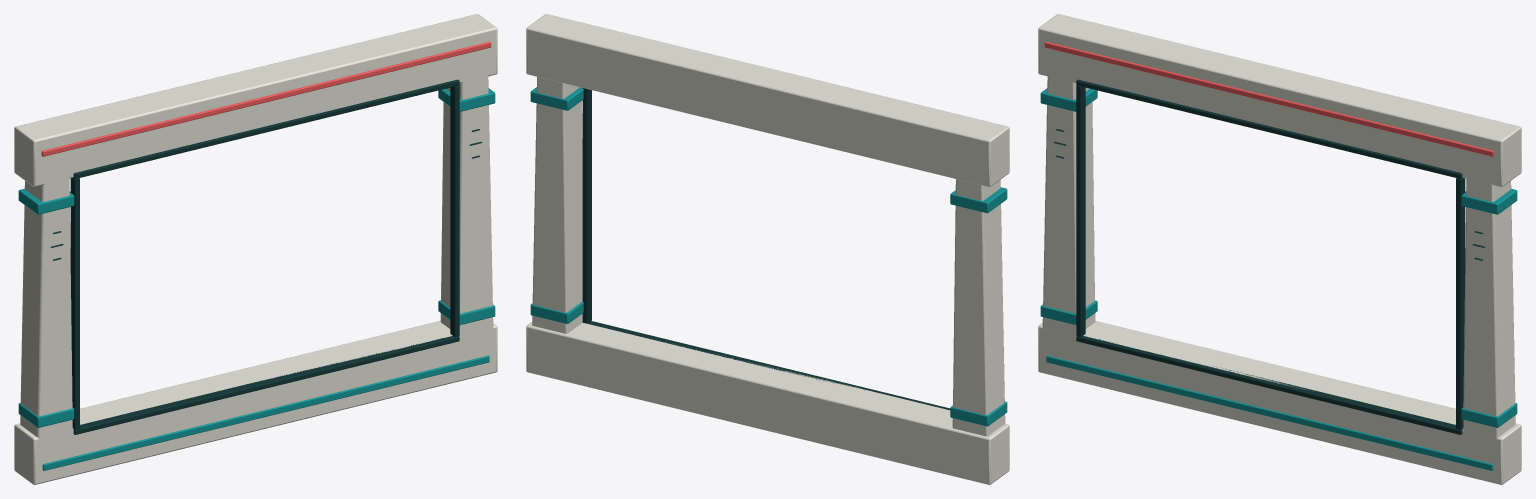
The model's file is gateframe.glb.
3 renders of one model, left to right at view 1: azimuth 30°, elevation 25°; view 2: azimuth 150°, elevation 25°; view 3: azimuth 330°, elevation 25°, orthographic.
Visible parts, largest first — view 1: FTG gateframe • wide lintel, FTG gateframe • paper threshold, FTG gateframe • left tapered pier, FTG gateframe • right tapered pier, FTG gateframe • threshold teal inset, FTG gateframe • inner shadow sill, FTG gateframe • coral lintel ribbon, FTG gateframe • inner shadow lintel, FTG gateframe • inner shadow upright 1, FTG gateframe • inner shadow upright -1, FTG gateframe • teal pier collar -1 1, FTG gateframe • teal pier collar -1 0 (+2 smaller); view 2: FTG gateframe • wide lintel, FTG gateframe • paper threshold, FTG gateframe • left tapered pier, FTG gateframe • right tapered pier, FTG gateframe • inner shadow upright 1, FTG gateframe • inner shadow sill, FTG gateframe • teal pier collar -1 1, FTG gateframe • teal pier collar 1 1, FTG gateframe • teal pier collar -1 0, FTG gateframe • teal pier collar 1 0; view 3: FTG gateframe • wide lintel, FTG gateframe • paper threshold, FTG gateframe • right tapered pier, FTG gateframe • left tapered pier, FTG gateframe • threshold teal inset, FTG gateframe • inner shadow sill, FTG gateframe • coral lintel ribbon, FTG gateframe • inner shadow lintel, FTG gateframe • inner shadow upright -1, FTG gateframe • inner shadow upright 1, FTG gateframe • teal pier collar 1 1, FTG gateframe • teal pier collar 1 0 (+2 smaller).
Boxes of the visible parts, x1=… form: FTG gateframe • wide lintel: x1=14, y1=14, x2=497, y2=186; FTG gateframe • paper threshold: x1=14, y1=321, x2=497, y2=484; FTG gateframe • left tapered pier: x1=20, y1=171, x2=72, y2=463; FTG gateframe • right tapered pier: x1=440, y1=69, x2=493, y2=360; FTG gateframe • threshold teal inset: x1=42, y1=355, x2=489, y2=470; FTG gateframe • inner shadow sill: x1=73, y1=336, x2=459, y2=434; FTG gateframe • coral lintel ribbon: x1=41, y1=41, x2=491, y2=156; FTG gateframe • inner shadow lintel: x1=73, y1=79, x2=459, y2=178; FTG gateframe • inner shadow upright 1: x1=450, y1=85, x2=459, y2=337; FTG gateframe • inner shadow upright -1: x1=70, y1=178, x2=79, y2=429; FTG gateframe • teal pier collar -1 1: x1=18, y1=188, x2=74, y2=214; FTG gateframe • teal pier collar -1 0: x1=18, y1=403, x2=74, y2=427; FTG gateframe • wide lintel: x1=526, y1=14, x2=1009, y2=186; FTG gateframe • paper threshold: x1=526, y1=322, x2=1009, y2=484; FTG gateframe • left tapered pier: x1=952, y1=179, x2=1005, y2=436; FTG gateframe • right tapered pier: x1=532, y1=77, x2=582, y2=333; FTG gateframe • inner shadow upright 1: x1=582, y1=88, x2=591, y2=323; FTG gateframe • inner shadow sill: x1=588, y1=321, x2=950, y2=410; FTG gateframe • teal pier collar -1 1: x1=950, y1=187, x2=1007, y2=213; FTG gateframe • teal pier collar 1 1: x1=530, y1=87, x2=583, y2=110; FTG gateframe • teal pier collar -1 0: x1=950, y1=401, x2=1007, y2=426; FTG gateframe • teal pier collar 1 0: x1=530, y1=301, x2=583, y2=323; FTG gateframe • wide lintel: x1=1038, y1=14, x2=1521, y2=186; FTG gateframe • paper threshold: x1=1038, y1=321, x2=1521, y2=484; FTG gateframe • right tapered pier: x1=1463, y1=171, x2=1515, y2=463; FTG gateframe • left tapered pier: x1=1042, y1=69, x2=1095, y2=360; FTG gateframe • threshold teal inset: x1=1046, y1=355, x2=1493, y2=470; FTG gateframe • inner shadow sill: x1=1076, y1=336, x2=1462, y2=434; FTG gateframe • coral lintel ribbon: x1=1044, y1=41, x2=1494, y2=156; FTG gateframe • inner shadow lintel: x1=1076, y1=79, x2=1462, y2=178; FTG gateframe • inner shadow upright -1: x1=1076, y1=85, x2=1085, y2=337; FTG gateframe • inner shadow upright 1: x1=1456, y1=178, x2=1465, y2=429; FTG gateframe • teal pier collar 1 1: x1=1461, y1=188, x2=1517, y2=214; FTG gateframe • teal pier collar 1 0: x1=1461, y1=403, x2=1517, y2=427.
Size of the model in its own units: 12.4 by 8.8 by 1.
